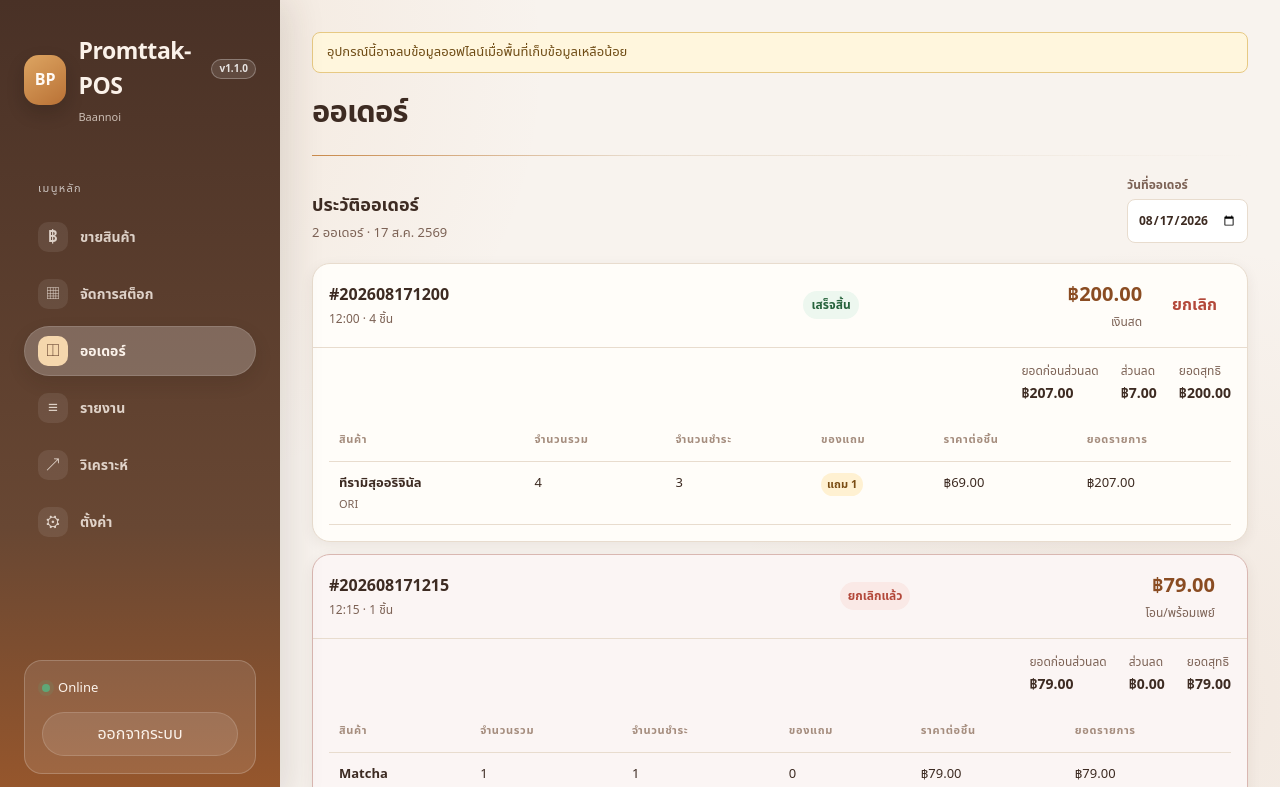
Test case: OrdersPage › routes cancellation 401 through auth expiry
Click the button with aria-label "ยกเลิกออเดอร์ 202608171200".
click(1195, 305)  # box [1158,283,1231,327]
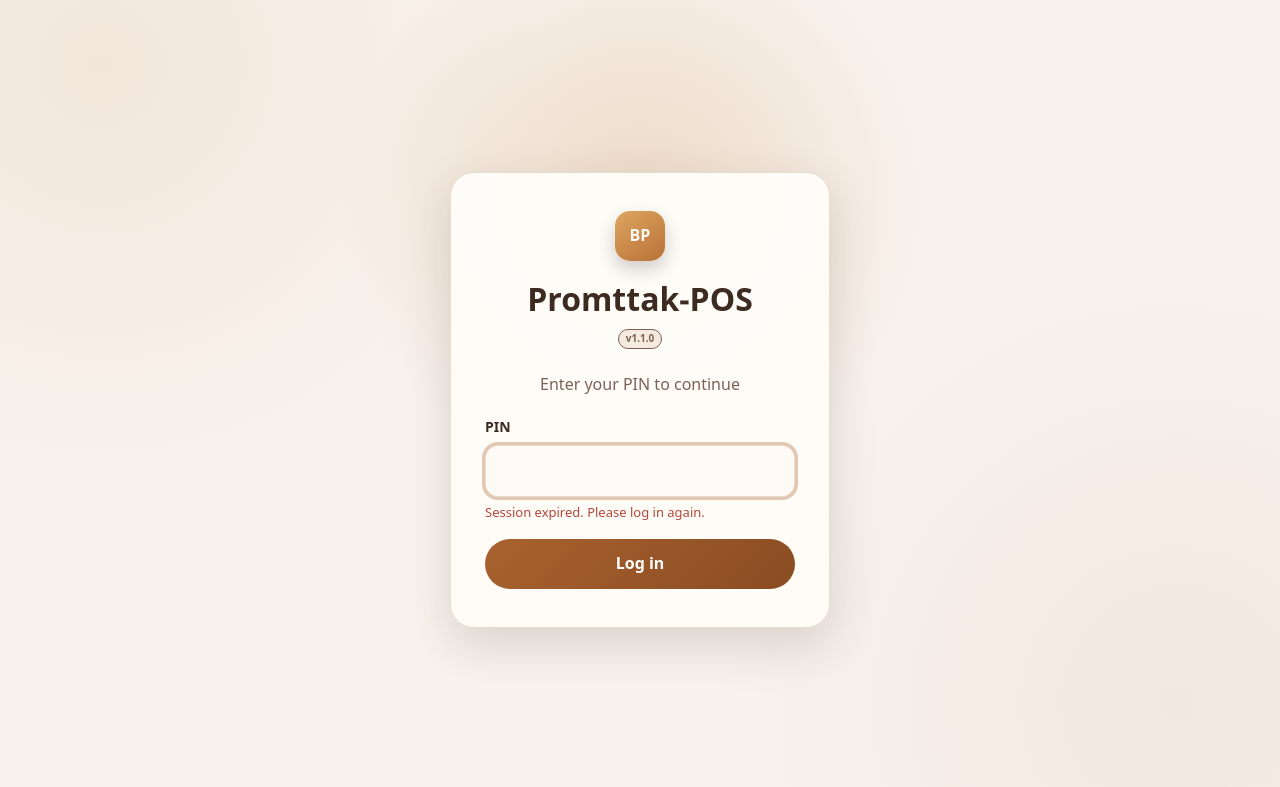
Check: the password field labelled "PIN" is shown, box [485,445,795,497]
Check: the message shows "Session expired", box [485,503,705,523]
